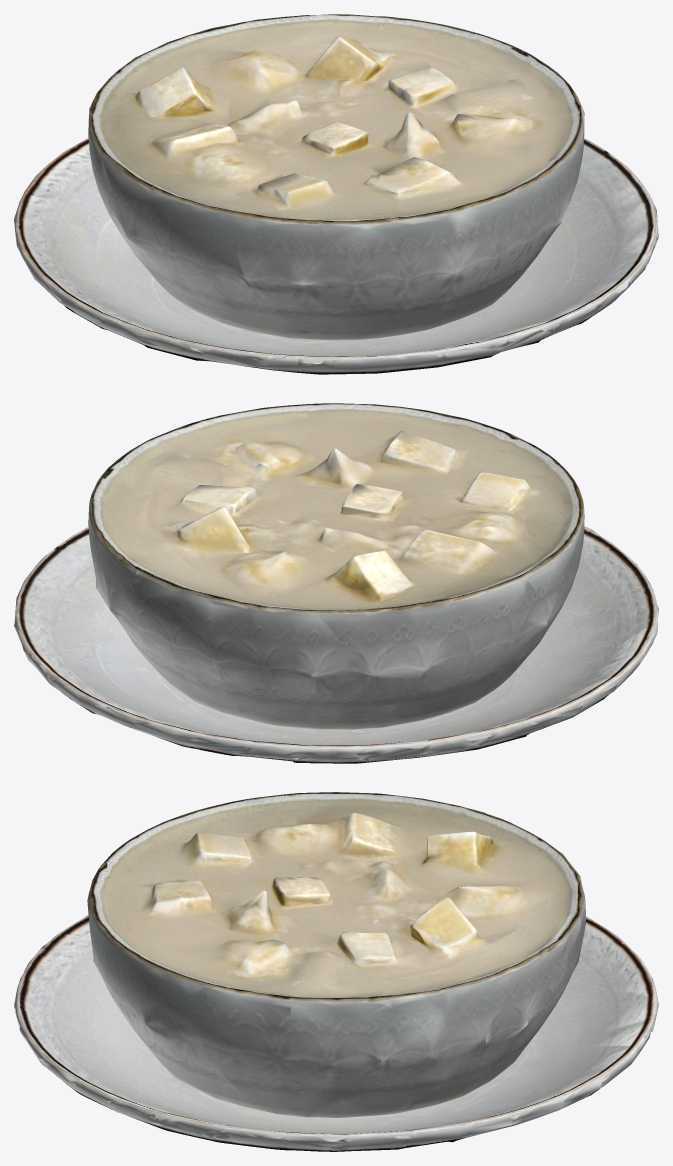
The model's file is Untitled1_mobile_optimized.glb.
The picture shows the model from 3 angles, top to bottom: view 1: azimuth 30°, elevation 25°; view 2: azimuth 150°, elevation 25°; view 3: azimuth 270°, elevation 25°; orthographic projection.
Visible parts, largest first — view 1: Mesh_0; view 2: Mesh_0; view 3: Mesh_0.
Part boxes in pixels (x1=…): Mesh_0: x1=14, y1=14, x2=658, y2=374; Mesh_0: x1=14, y1=403, x2=658, y2=763; Mesh_0: x1=14, y1=792, x2=658, y2=1151.
Size of the model in its own units: 1.9 by 0.672 by 1.9.
Materials: 1 (1 with a texture image).
